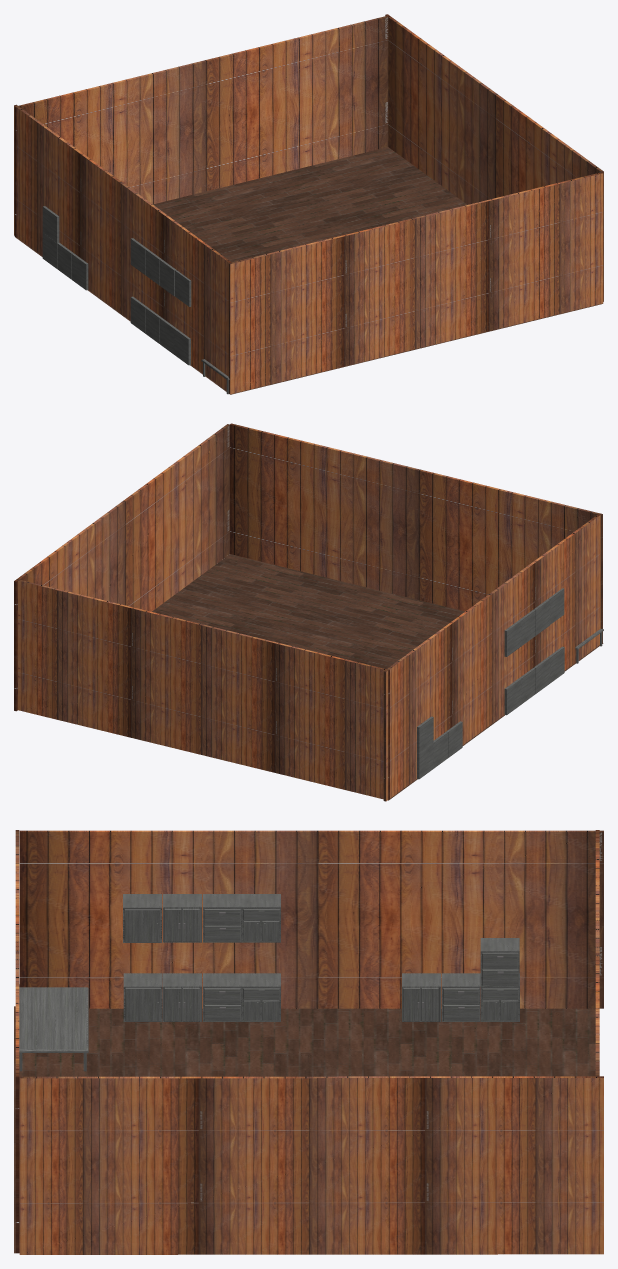
Rendered from CandleWallExport.fbx.
The picture shows the model from 3 angles, top to bottom: view 1: azimuth 30°, elevation 25°; view 2: azimuth 150°, elevation 25°; view 3: azimuth 270°, elevation 25°; orthographic projection. The views are drawn at different scales.
Parts seen in each view (by area): view 1: pCube116, pCube115, pCube4, pCube114, pPlane1, pCube48; view 2: pCube115, pCube116, pCube4, pCube114, pPlane1, pCube50, pCube56; view 3: pCube114, pCube4, pPlane1, pCube6, pCube116, pCube44, pCube46, pCube48, pCube43, pCube50, pCube51, pCube52 (+6 smaller).
Part boxes in pixels (x1,y1,x2,y2): pCube116: (228,172,603,394); pCube115: (14,16,388,237); pCube4: (14,104,231,390); pCube114: (385,14,603,301); pPlane1: (16,147,602,394); pCube48: (42,206,59,242); pCube115: (17,579,389,800); pCube116: (230,423,602,643); pCube4: (383,514,600,801); pCube114: (14,424,229,711); pPlane1: (152,554,603,799); pCube50: (504,678,521,715); pCube56: (504,620,521,656); pCube114: (19,1076,603,1254); pCube4: (19,830,603,1008); pPlane1: (14,1006,595,1253); pCube6: (19,984,88,1071); pCube116: (15,830,19,1253); pCube44: (441,973,480,1021); pCube46: (123,973,162,1021); pCube48: (480,938,519,986); pCube43: (402,973,440,1021); pCube50: (242,973,280,1021); pCube51: (163,973,201,1021); pCube52: (203,973,241,1021).
Size of the model in its own units: 15.16 by 5.03 by 15.15.
4 materials, 3 textured.
